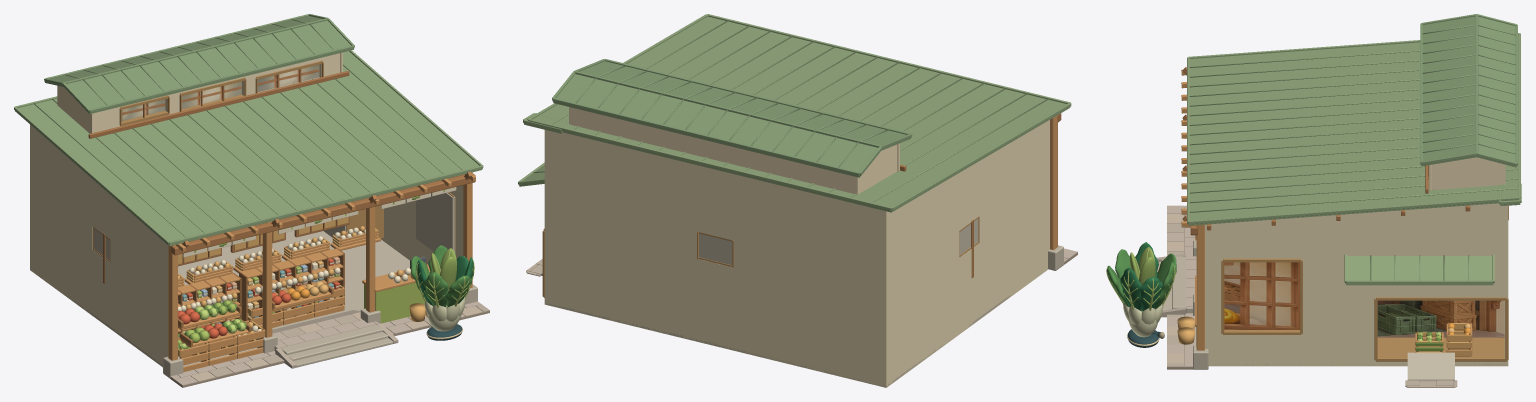
Rendered from 12-A-37ddfbcc272f.glb.
The picture shows the model from 3 angles, left to right: view 1: azimuth 30°, elevation 25°; view 2: azimuth 150°, elevation 25°; view 3: azimuth 270°, elevation 25°; orthographic projection. The views are drawn at different scales.
Parts seen in each view (by area): view 1: SM_12_02_曲面屋顶, SM_12_01_建筑墙体, SM_12_06_景观设施, SM_12_04_门窗楼梯, SM_12_03_木构回廊, SM_12_06_院内及专用铺地, SM_12_06_门前充气招牌; view 2: SM_12_01_建筑墙体, SM_12_02_曲面屋顶, SM_12_04_门窗楼梯, SM_12_03_木构回廊; view 3: SM_12_02_曲面屋顶, SM_12_01_建筑墙体, SM_12_04_门窗楼梯, SM_12_06_门前充气招牌, SM_12_06_院内及专用铺地, SM_12_03_木构回廊, SM_12_06_景观设施.
Boxes of the visible parts, x1,y1,x2,y2 form: SM_12_02_曲面屋顶: (14,14,483,246); SM_12_01_建筑墙体: (30,53,463,367); SM_12_06_景观设施: (178,226,430,371); SM_12_04_门窗楼梯: (93,60,456,367); SM_12_03_木构回廊: (88,52,477,378); SM_12_06_院内及专用铺地: (170,301,489,387); SM_12_06_门前充气招牌: (411,245,474,340); SM_12_01_建筑墙体: (544,107,1049,387); SM_12_02_曲面屋顶: (518,14,1071,212); SM_12_04_门窗楼梯: (540,217,979,297); SM_12_03_木构回廊: (897,113,1063,270); SM_12_02_曲面屋顶: (1187,14,1521,285); SM_12_01_建筑墙体: (1205,157,1508,366); SM_12_04_门窗楼梯: (1157,165,1508,380); SM_12_06_门前充气招牌: (1106,242,1176,347); SM_12_06_院内及专用铺地: (1156,205,1457,387); SM_12_03_木构回廊: (1181,67,1470,369); SM_12_06_景观设施: (1177,235,1472,356).
Size of the model in its own units: 11.48 by 6.12 by 11.08.
Materials: 39 (1 with a texture image).
